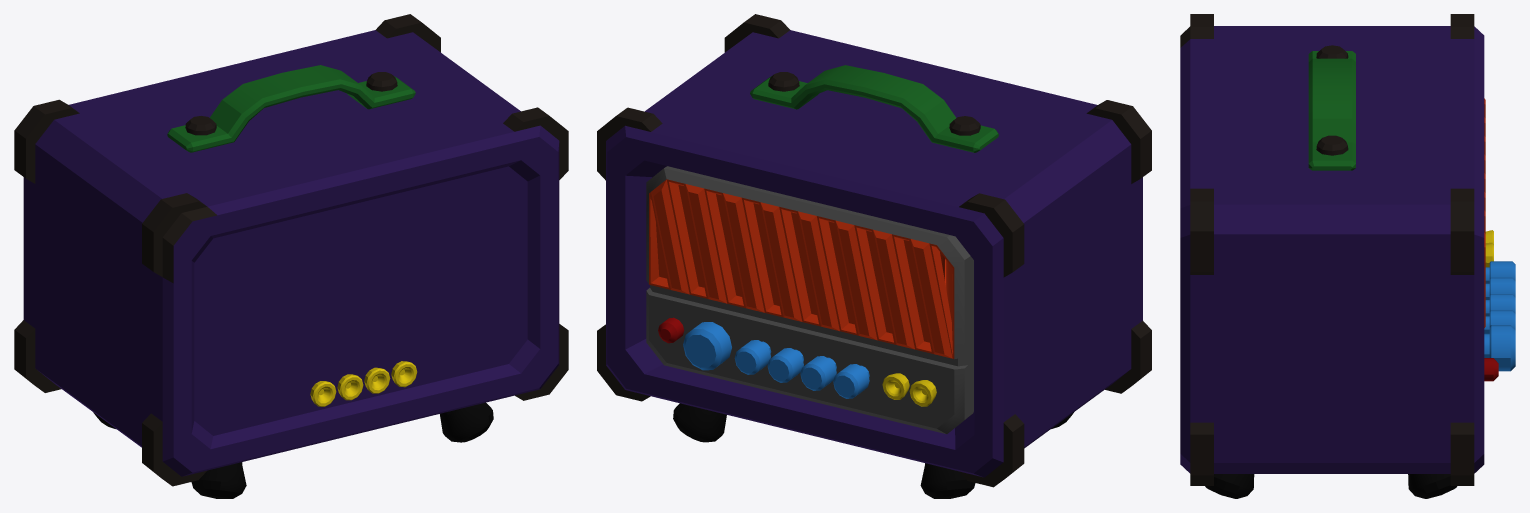
The model's file is Music column-1.FBX.
3 views of the same model, side by side, from view 1: azimuth 30°, elevation 25°; view 2: azimuth 150°, elevation 25°; view 3: azimuth 270°, elevation 25° (orthographic). The views are drawn at different scales.
Parts seen in each view (by area): view 1: Music column-1; view 2: Music column-1; view 3: Music column-1.
Boxes of the visible parts, x1,y1,x2,y2 form: Music column-1: [14, 14, 568, 498]; Music column-1: [597, 14, 1151, 498]; Music column-1: [1180, 14, 1515, 498].
Bounding box in the file's own units: 1046 × 717 × 849.
